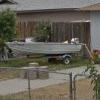Boat: (4, 34, 88, 66)
